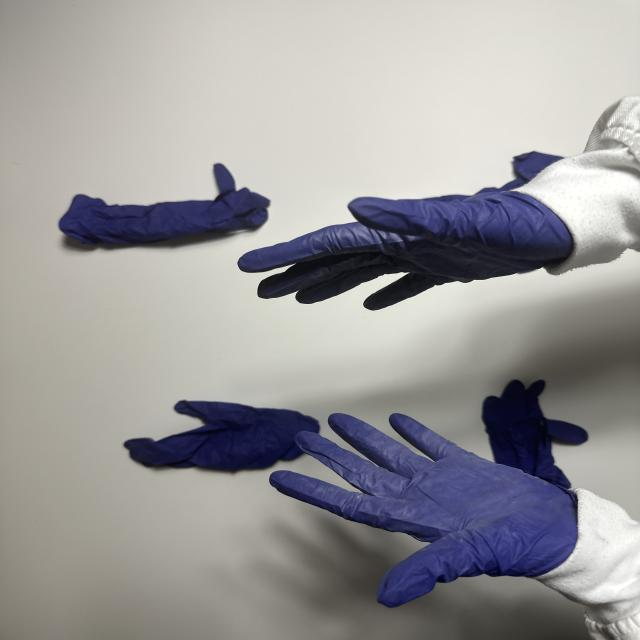gloves_contaminated: (270, 414, 577, 606), (238, 189, 572, 310)
